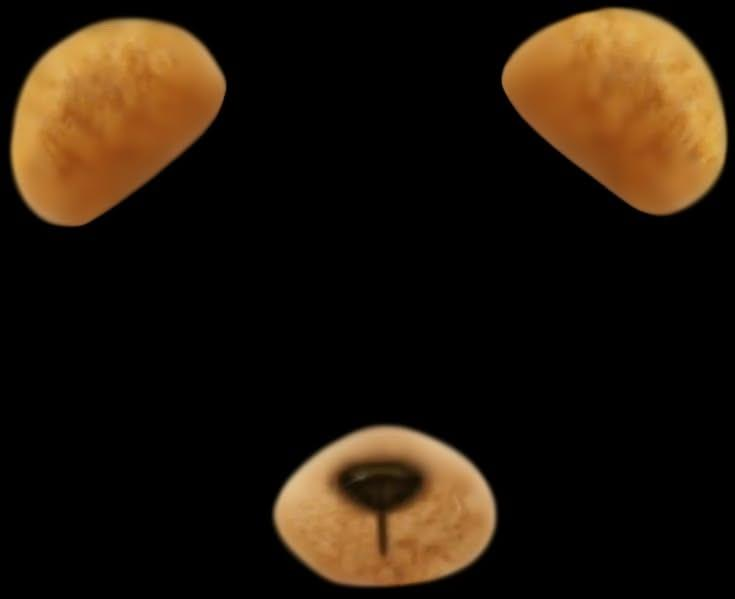non-dog: (6, 5, 730, 591)
